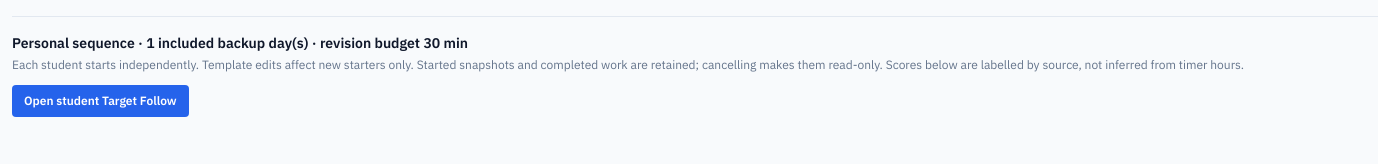
Test: read failure never fabricates progress
Click the button "Open student Target Follow".
click(100, 101)  # box [12,85,189,117]
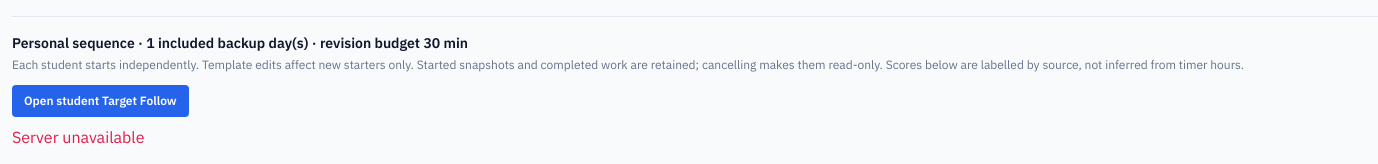
Result: the message "Server unavailable" is shown at [12,127,144,147]
